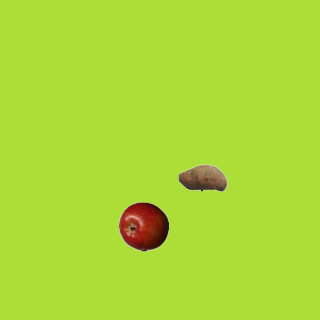Apple Braeburn: (118, 201, 168, 251)
Potato Sweet: (177, 152, 227, 202)
